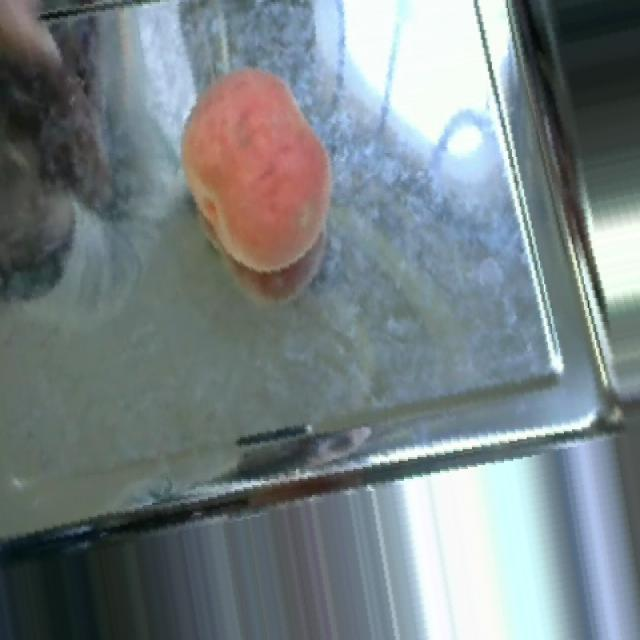Fruit: (159, 48, 352, 292)
